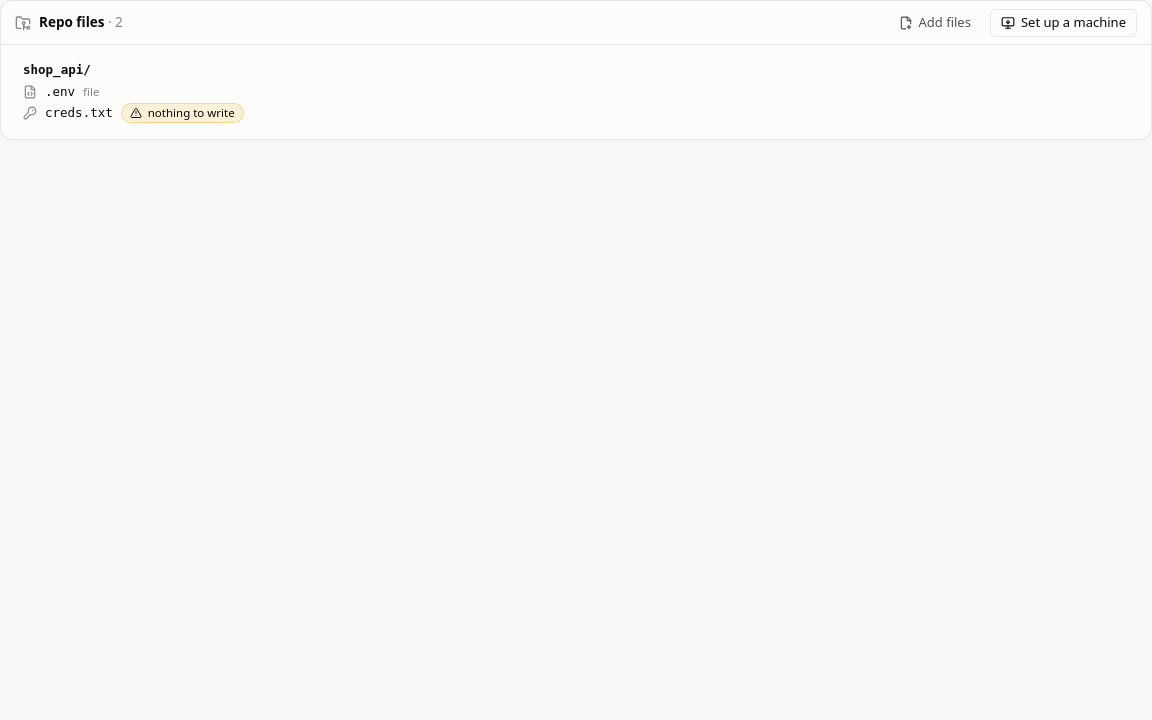
Test: Repo files and machine setup › lists repo files, flags one with nothing to write, and hands out a one-time command
Expected: the text "shop_api/" is shown, 23,62 -> 91,77
Expected: the text "nothing to write" is shown, 121,103 -> 244,123
Click the button ".env".
click(60, 92)  # box 45,83 -> 75,101
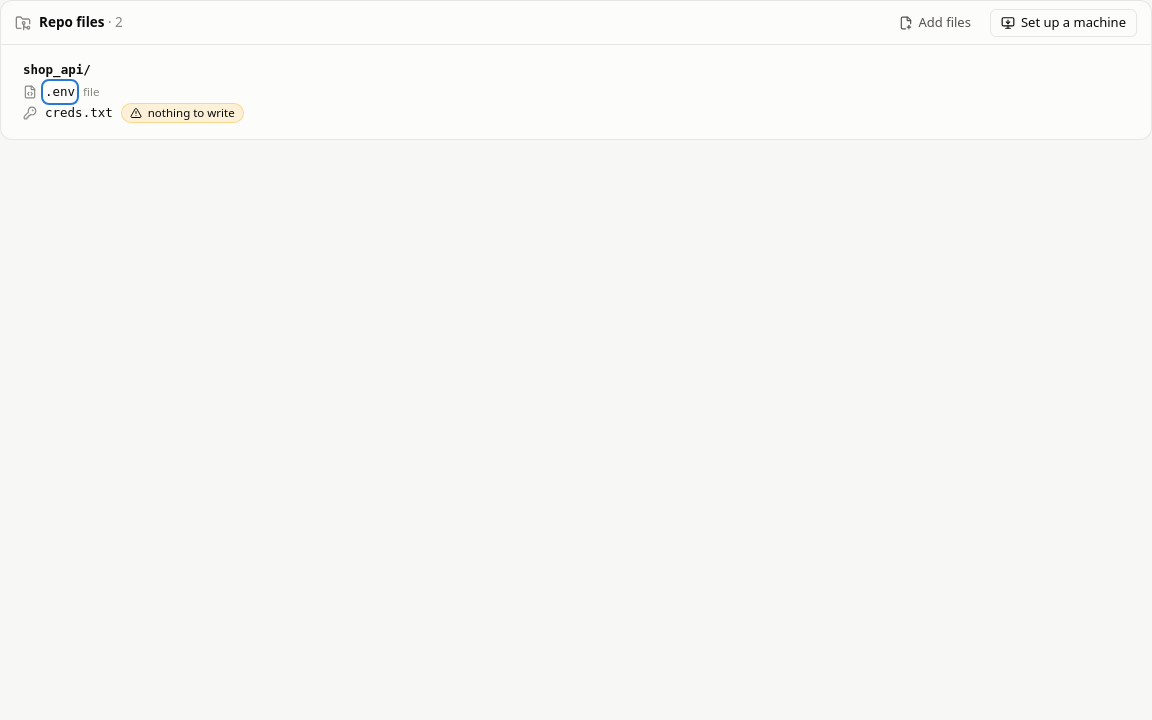
Click the button "Set up a machine".
click(1063, 22)  # box 990,8 -> 1137,36
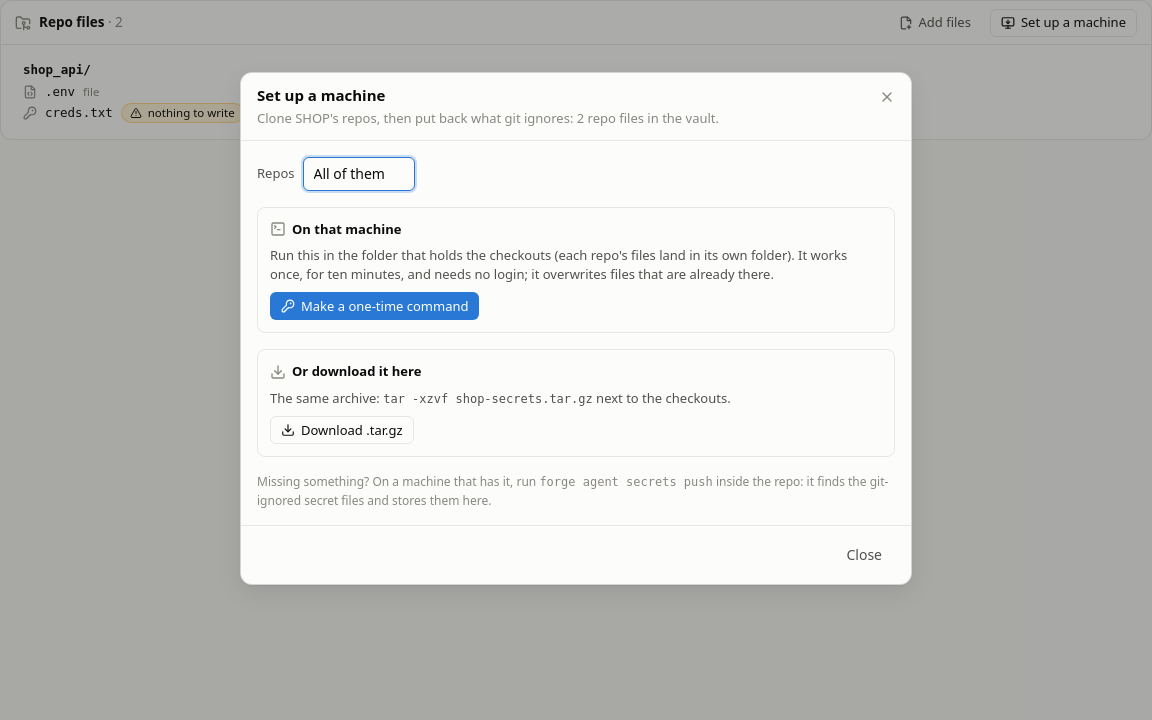
Click the button "Make a one-time command".
click(375, 306)  # box 270,292 -> 480,320
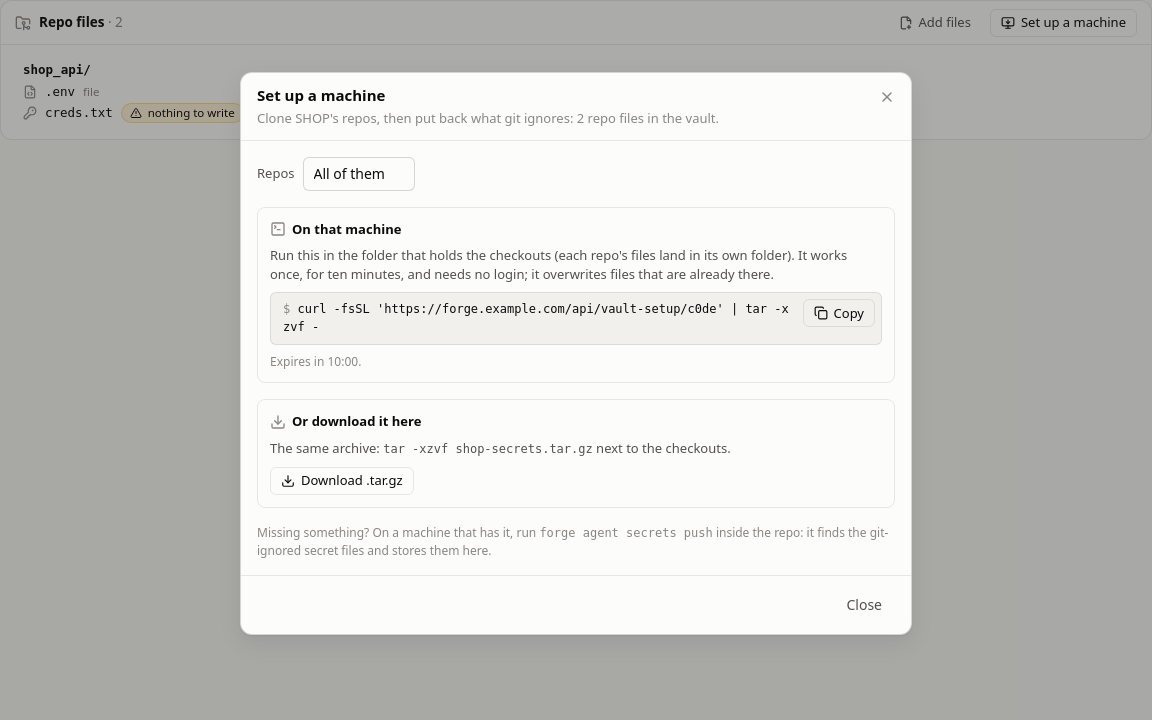
Expected: the text "vault-setup/c0de' | tar -xzvf -" is shown, 283,302 -> 789,334
Expected: the text "Expires in 10:00." is shown, 270,353 -> 361,370
